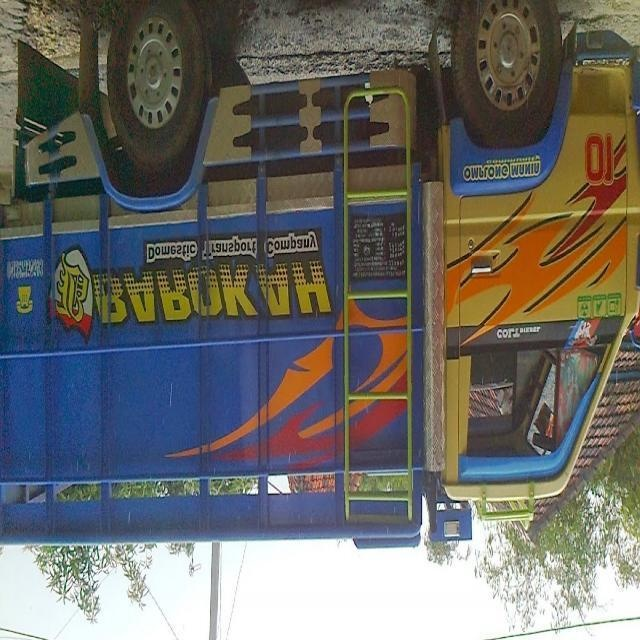Truck: (1, 1, 640, 560)
